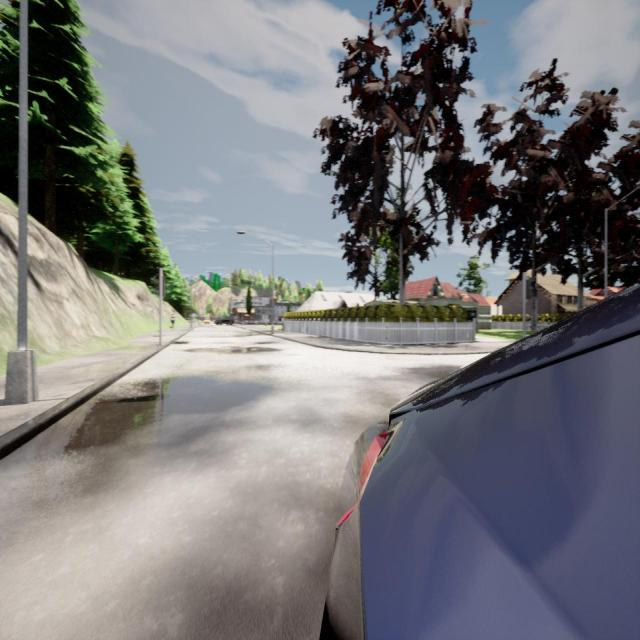Pedestrian: (169, 310, 176, 330)
Vehicle: (319, 289, 640, 640), (214, 314, 234, 325), (204, 315, 212, 325)
traffic_light: (526, 279, 533, 300), (162, 274, 166, 297)
